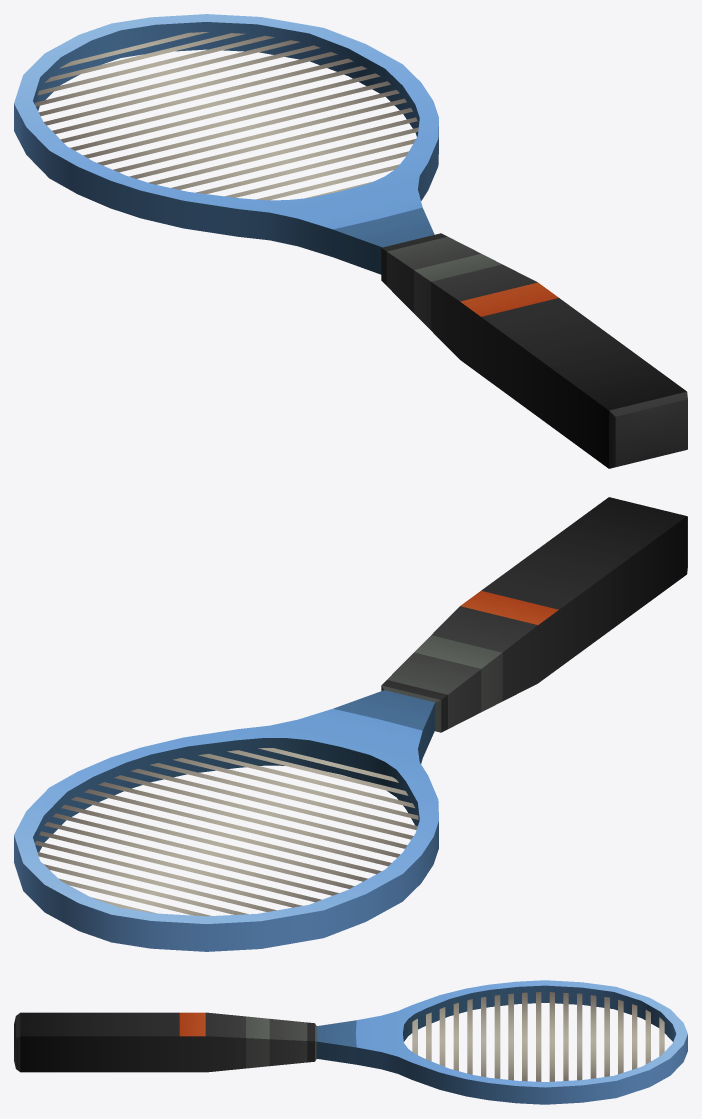
The model's file is SM_ElectricRacket.fbx.
3 views of the same model, one above another, from view 1: azimuth 30°, elevation 25°; view 2: azimuth 150°, elevation 25°; view 3: azimuth 270°, elevation 25° (orthographic). The views are drawn at different scales.
Visible parts, largest first — view 1: SM_ElectricRacket; view 2: SM_ElectricRacket; view 3: SM_ElectricRacket.
Boxes of the visible parts, <box> form: SM_ElectricRacket: <box>14,14,687,468</box>; SM_ElectricRacket: <box>14,497,687,951</box>; SM_ElectricRacket: <box>14,980,687,1104</box>.
Bounding box in the file's own units: 0.3129 × 0.0493 × 0.8307.
